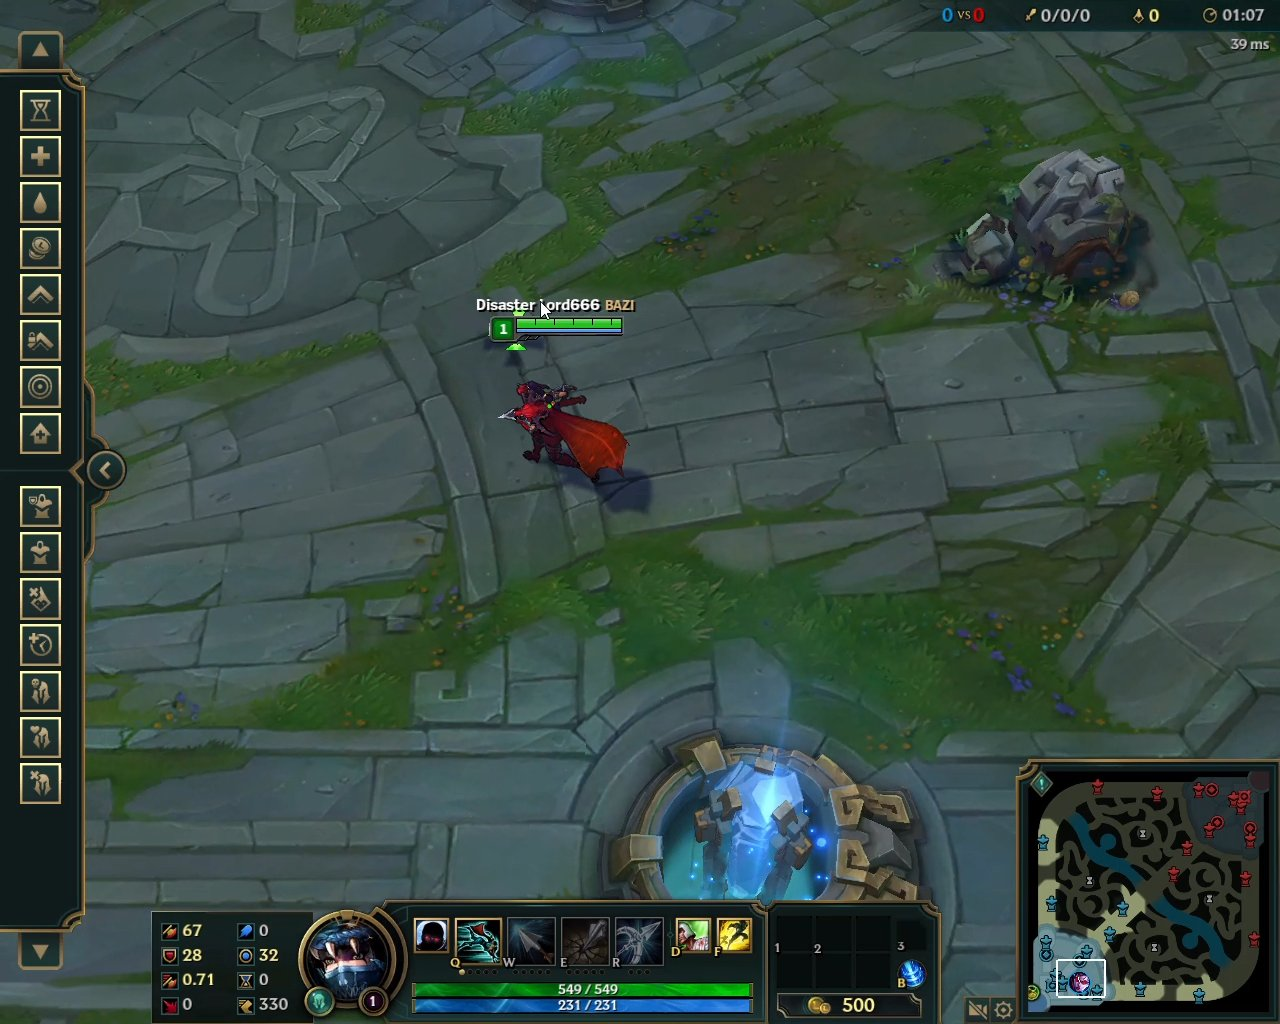Vayne: (489, 376, 635, 496)
